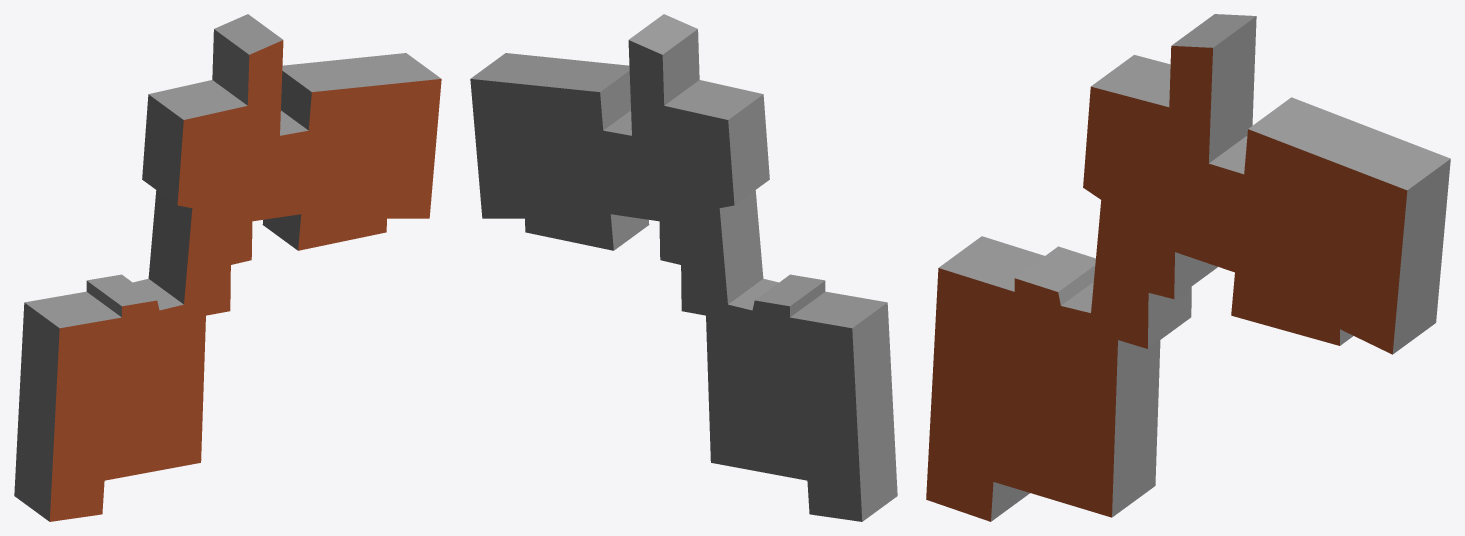
File: construction_2720_assumed_A_Casa_h6m.obj
The picture shows the model from 3 angles, left to right: view 1: azimuth 30°, elevation 25°; view 2: azimuth 150°, elevation 25°; view 3: azimuth 330°, elevation 25°; orthographic projection. The views are drawn at different scales.
Parts seen in each view (by area): view 1: construction_2720_assumed_A_Casa; view 2: construction_2720_assumed_A_Casa; view 3: construction_2720_assumed_A_Casa.
Part boxes in pixels (x1,y1,x2,y2): construction_2720_assumed_A_Casa: [14, 14, 441, 521]; construction_2720_assumed_A_Casa: [470, 14, 897, 521]; construction_2720_assumed_A_Casa: [926, 14, 1450, 521].
Bounding box in the file's own units: 38.34 × 40.23 × 6.
